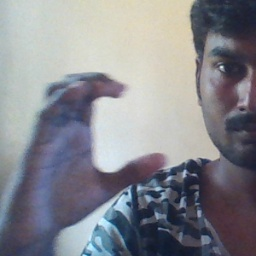C: (44, 62, 172, 195)
